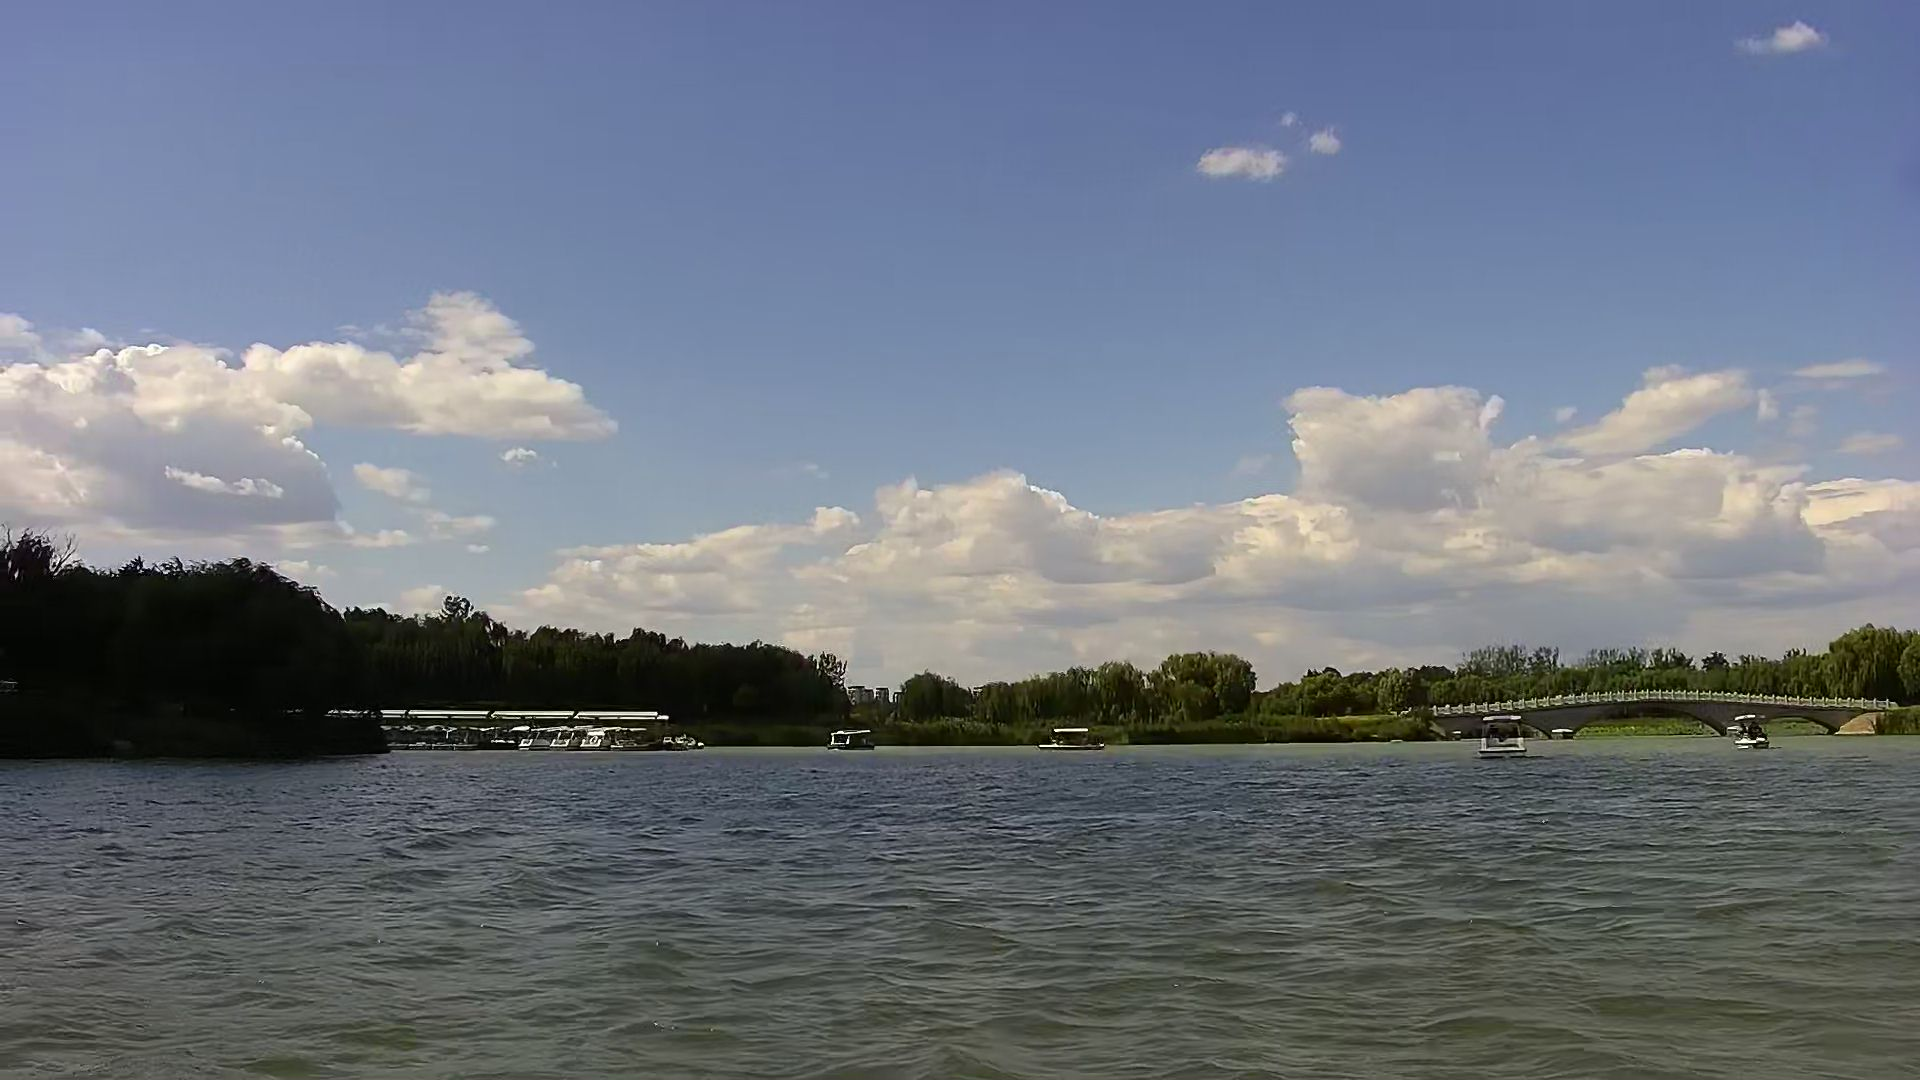boat: (1473, 709, 1542, 771), (1031, 720, 1121, 766), (1721, 709, 1789, 756), (818, 720, 890, 752), (575, 732, 661, 754), (545, 724, 589, 754), (517, 724, 551, 758)
bridge: (1425, 682, 1907, 735)
